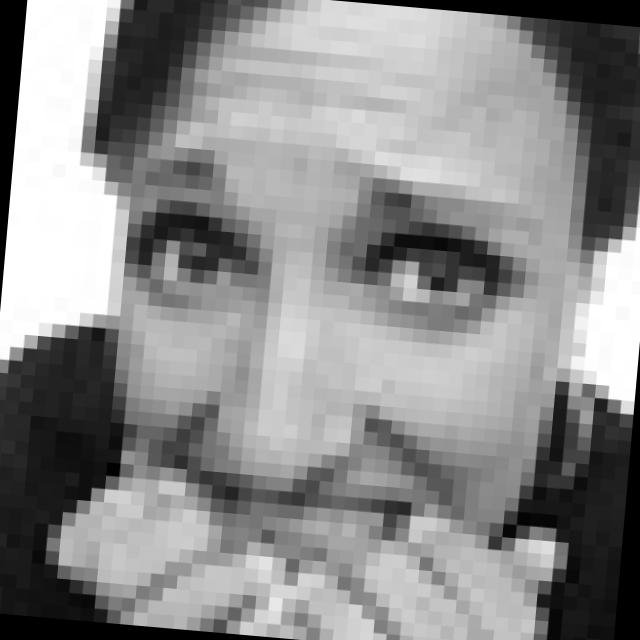fear: (105, 152, 548, 597)
